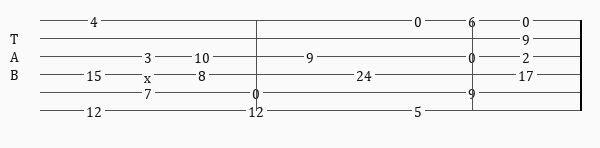0: (252, 85, 264, 99), (414, 13, 426, 27), (468, 49, 480, 63), (522, 13, 534, 27)
10: (194, 49, 214, 63)
12: (86, 103, 106, 117), (248, 103, 268, 117)
15: (86, 67, 106, 82)
17: (518, 67, 538, 81)
2: (522, 49, 534, 63)
24: (356, 67, 376, 81)
3: (144, 49, 156, 63)
4: (90, 13, 102, 27)
5: (414, 103, 426, 118)
6: (468, 13, 480, 27)
7: (144, 85, 156, 99)
8: (198, 67, 210, 81)
9: (306, 49, 318, 63), (468, 85, 480, 99), (522, 31, 534, 45)
x: (144, 69, 155, 80)
